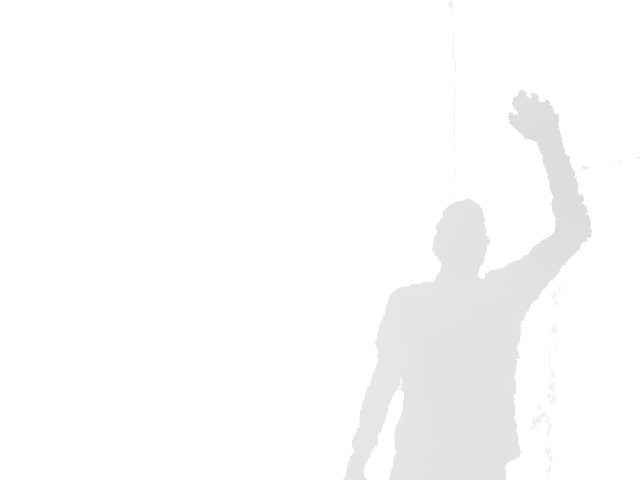hand: (506, 90, 566, 142)
head: (430, 198, 490, 277)
person: (340, 89, 593, 480)
